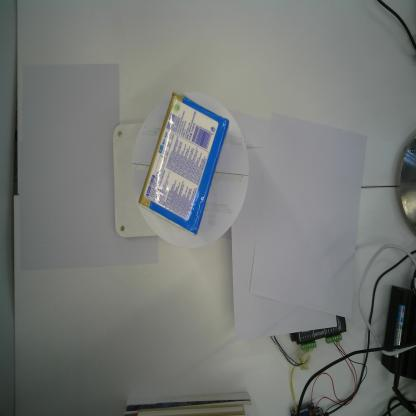Tissue: (138, 90, 230, 238)
